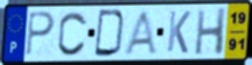A: (122, 9, 160, 56)
C: (56, 10, 89, 58)
D: (93, 8, 127, 59)
H: (193, 7, 228, 57)
K: (166, 9, 193, 55)
P: (25, 11, 57, 58)
